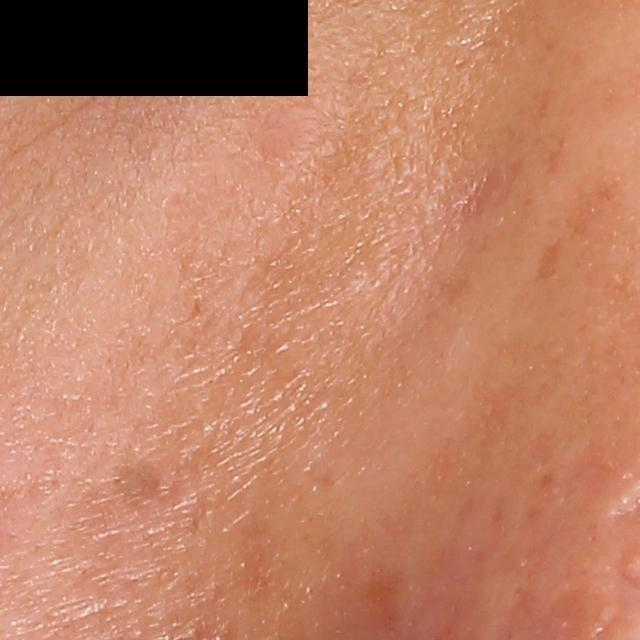melasma: (568, 173, 625, 246), (110, 440, 168, 510), (533, 236, 561, 285)
